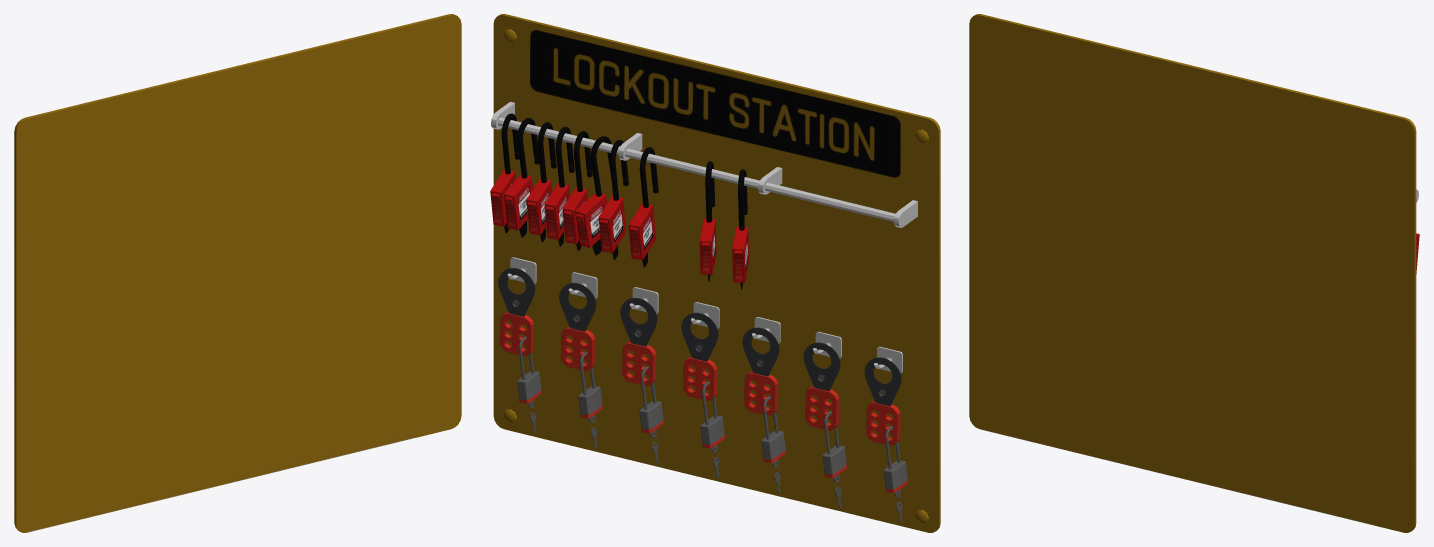
The model's file is Lockout station.fbx.
3 renders of one model, left to right at view 1: azimuth 30°, elevation 25°; view 2: azimuth 150°, elevation 25°; view 3: azimuth 330°, elevation 25°, orthographic.
Parts seen in each view (by area): view 1: mesh3.dat; view 2: mesh3.dat, mesh24.dat, mesh23.dat, mesh21.dat, mesh22.dat, mesh20.dat, mesh0.dat, mesh19.dat, mesh31.dat, mesh25.dat, mesh30.dat, mesh29.dat (+6 smaller); view 3: mesh3.dat.
Boxes of the visible parts, <box> form: mesh3.dat: <box>14,14,461,532</box>; mesh3.dat: <box>491,14,940,532</box>; mesh24.dat: <box>864,357,908,522</box>; mesh23.dat: <box>803,342,846,507</box>; mesh21.dat: <box>681,312,724,478</box>; mesh22.dat: <box>742,327,785,492</box>; mesh20.dat: <box>620,298,663,463</box>; mesh0.dat: <box>498,268,541,433</box>; mesh19.dat: <box>559,283,602,448</box>; mesh31.dat: <box>628,147,658,266</box>; mesh25.dat: <box>503,118,539,237</box>; mesh30.dat: <box>598,140,628,259</box>; mesh29.dat: <box>575,136,611,255</box>; mesh3.dat: <box>969,14,1418,532</box>.
Bounding box in the file's own units: 150 × 133 × 21.15.
3 materials, 3 textured.
